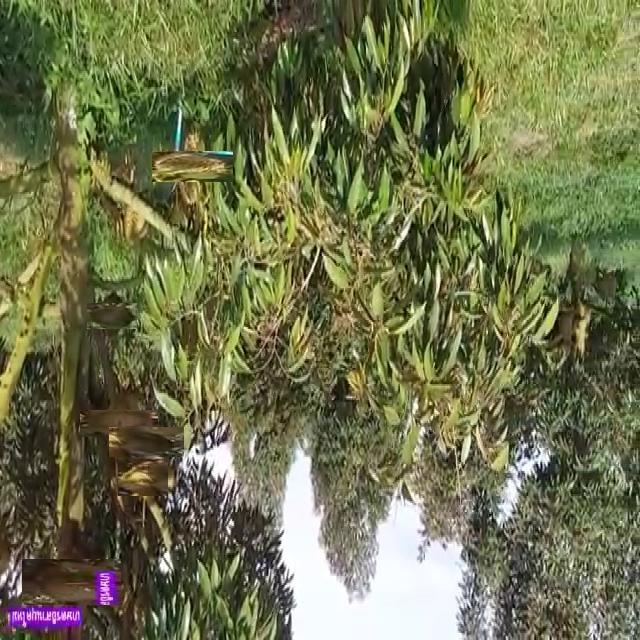durian: (35, 546, 108, 619), (164, 138, 221, 195), (92, 397, 146, 451), (121, 416, 173, 468), (121, 454, 166, 499), (93, 296, 131, 335)
